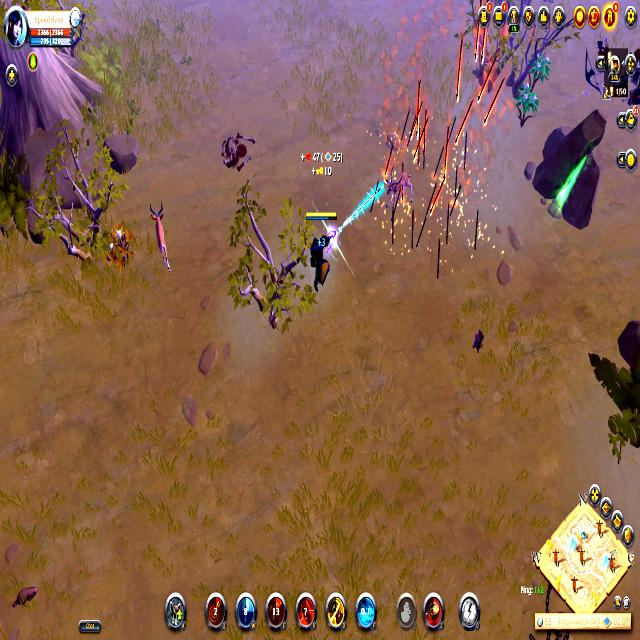hide: (105, 224, 134, 272), (515, 80, 538, 124), (528, 46, 551, 87)
ore: (146, 195, 175, 277), (584, 36, 608, 98)
red: (302, 206, 338, 297)
